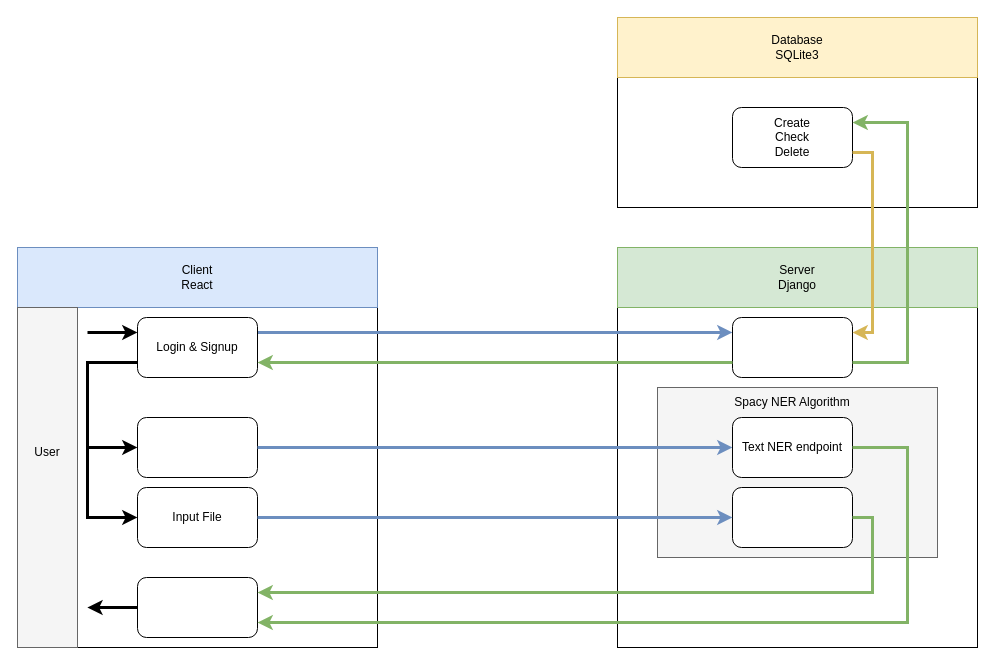
Some shapes in this 995 by 665 pixel diagram are drawn without their labels. Each missing label, with the centre of its shape:
File NER endpoint: [792,517]
Input Text: [197,447]
Login & Signup endpint: [792,347]
Output Result: [197,607]
